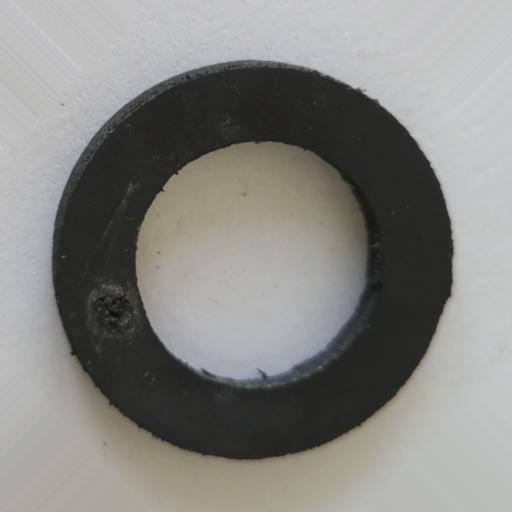defect: (92, 291, 135, 332)
